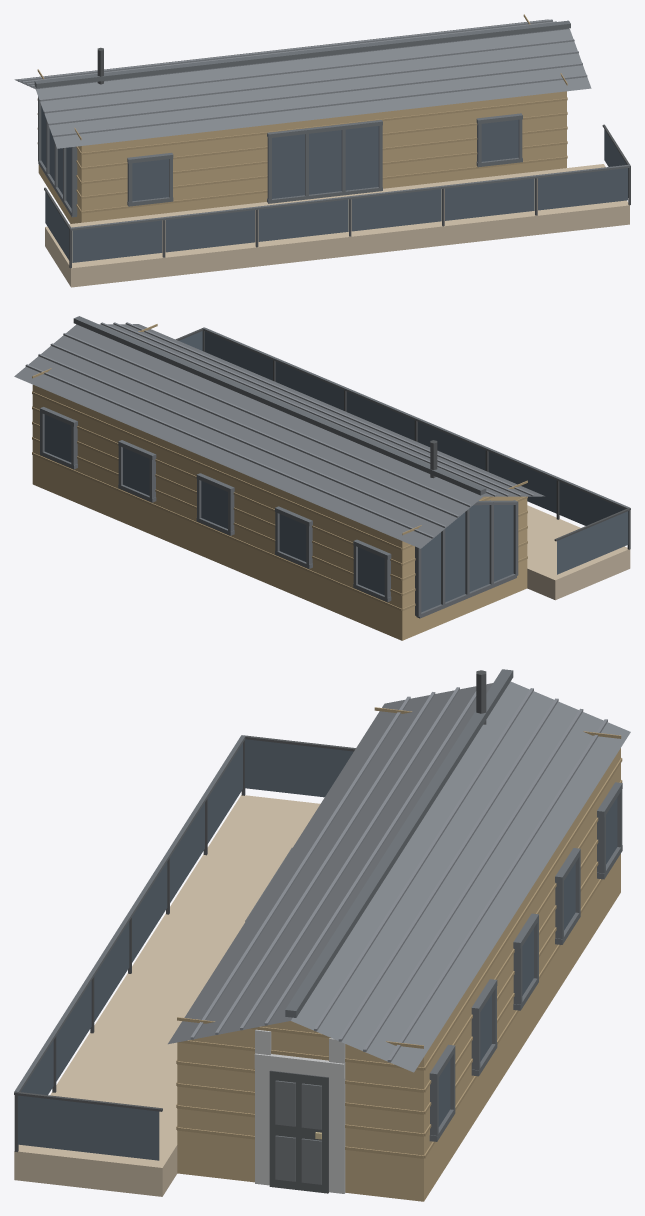
The picture shows the model from 3 angles, top to bottom: view 1: azimuth 30°, elevation 25°; view 2: azimuth 150°, elevation 25°; view 3: azimuth 270°, elevation 25°; orthographic projection. The views are drawn at different scales.
Parts seen in each view (by area): view 1: slate, door_wood, larch, slate_dk, slate_lt, door_wood_p, window_glass_001, window_glass_003, window_glass_004, window_glass_002, window_glass_005, window_glass_006 (+9 smaller); view 2: slate, door_wood, slate_dk, slate_lt, window_glass_014, door_wood_p, larch, window_glass_007, window_glass_002, window_glass_001, window_glass_004, window_glass_005 (+8 smaller); view 3: slate, door_wood, larch, slate_dk, slate_lt, door_wood_p, window_glass_008, stone_band, window_glass_007, door_dark_p, door_dark, pipe (+6 smaller).
Part boxes in pixels (x1,y1,x2,y2): slate: [14, 19, 591, 148]; door_wood: [38, 91, 566, 223]; larch: [45, 164, 629, 287]; slate_dk: [34, 20, 629, 230]; slate_lt: [18, 19, 587, 137]; door_wood_p: [37, 14, 567, 213]; window_glass_001: [72, 220, 162, 262]; window_glass_003: [258, 199, 348, 241]; window_glass_004: [351, 189, 441, 231]; window_glass_002: [165, 210, 255, 252]; window_glass_005: [445, 178, 534, 220]; window_glass_006: [538, 168, 627, 210]; slate: [14, 324, 544, 548]; door_wood: [32, 385, 527, 640]; slate_dk: [40, 316, 629, 618]; slate_lt: [25, 322, 534, 538]; window_glass_014: [421, 505, 513, 612]; door_wood_p: [32, 324, 527, 610]; larch: [527, 505, 630, 600]; window_glass_007: [557, 511, 628, 574]; window_glass_002: [488, 452, 556, 513]; window_glass_001: [559, 481, 624, 525]; window_glass_004: [346, 391, 414, 440]; window_glass_005: [275, 361, 343, 410]; slate: [168, 681, 630, 1072]; door_wood: [177, 748, 620, 1201]; larch: [14, 795, 320, 1196]; slate_dk: [14, 669, 622, 1141]; slate_lt: [190, 687, 607, 1062]; door_wood_p: [176, 707, 622, 1158]; window_glass_008: [18, 1095, 159, 1160]; stone_band: [254, 1029, 345, 1193]; window_glass_007: [245, 739, 353, 797]; door_dark_p: [275, 1080, 321, 1184]; door_dark: [269, 1070, 328, 1193]; pipe: [14, 670, 486, 1152].
Size of the model in its own units: 14.6 by 4 by 9.66.
